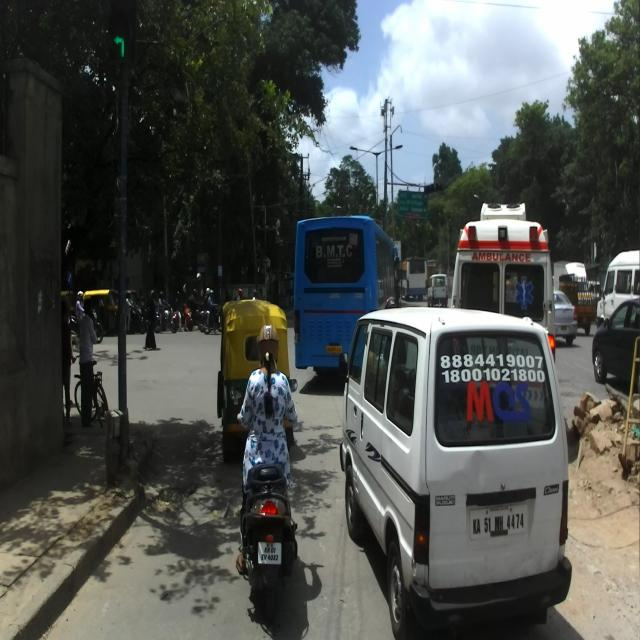autorickshaw: (217, 298, 294, 460)
bus: (293, 214, 399, 384), (451, 202, 554, 365)
car: (338, 304, 572, 640)
scooter: (229, 377, 297, 620)
